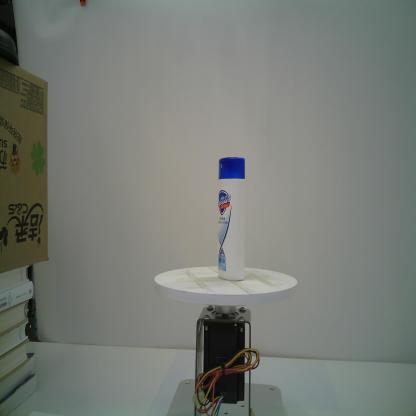Personal Hygiene: (216, 156, 246, 283)
